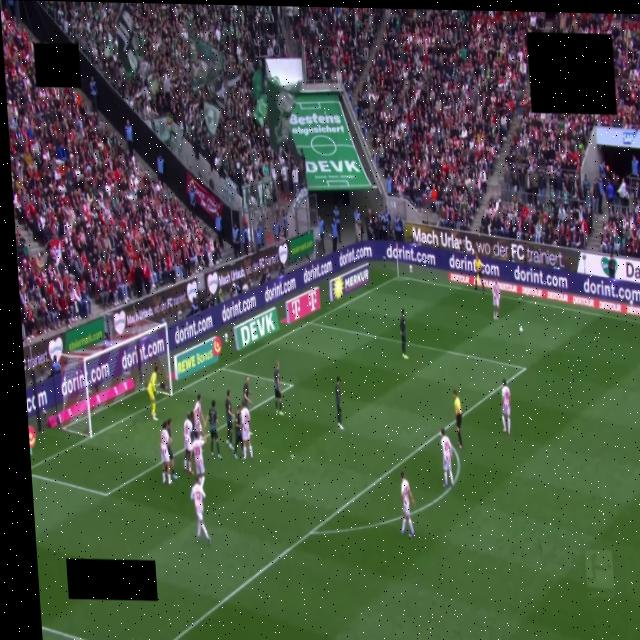ball: (519, 327, 523, 332)
player: (191, 477, 210, 544), (401, 472, 415, 536), (441, 428, 454, 488), (208, 400, 220, 458), (191, 433, 204, 486), (241, 402, 253, 459), (160, 422, 171, 484), (167, 419, 177, 479), (273, 361, 284, 415), (184, 412, 193, 474), (501, 379, 511, 434), (148, 366, 158, 421), (225, 390, 234, 449), (234, 405, 243, 459), (193, 395, 205, 435), (335, 376, 343, 430), (400, 309, 408, 360), (491, 282, 500, 321), (243, 376, 252, 405)
referee: (453, 391, 462, 449)
